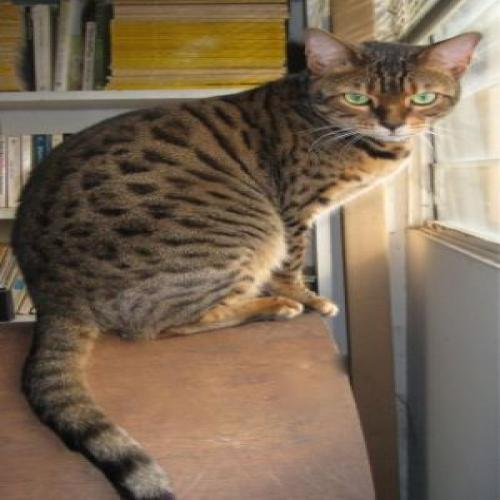cat-face: (299, 26, 492, 143)
